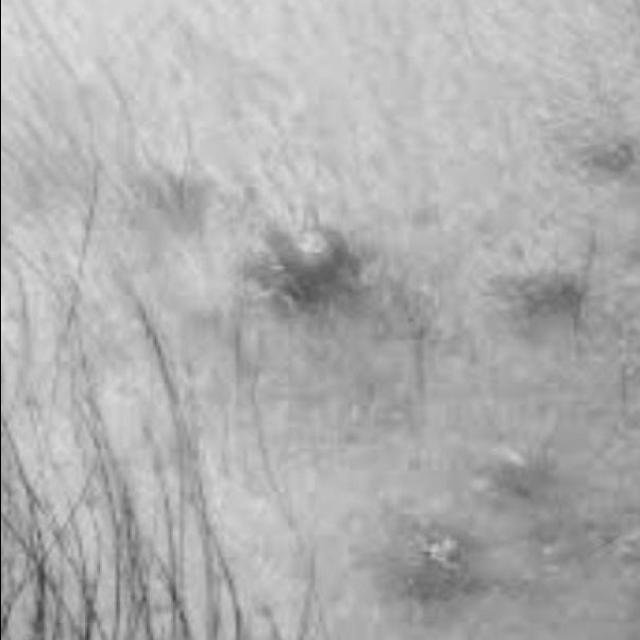pustule: (242, 207, 393, 319)
